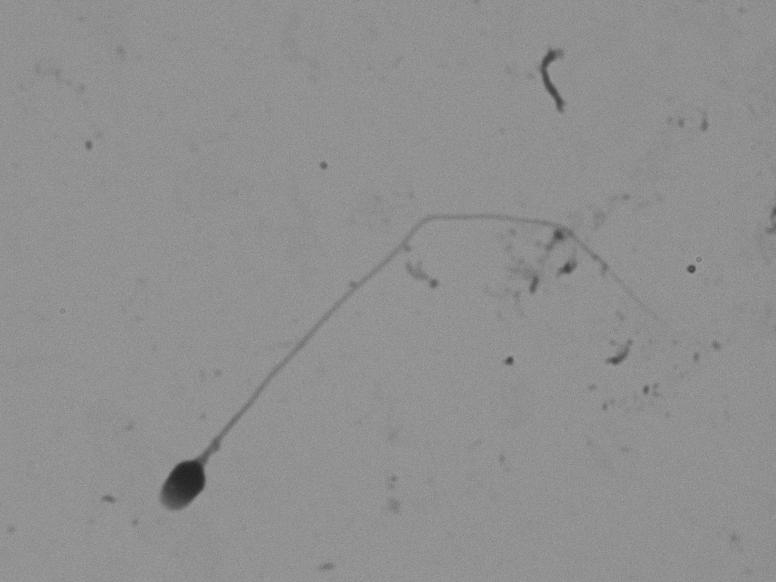Normal: (85, 165, 693, 535)
